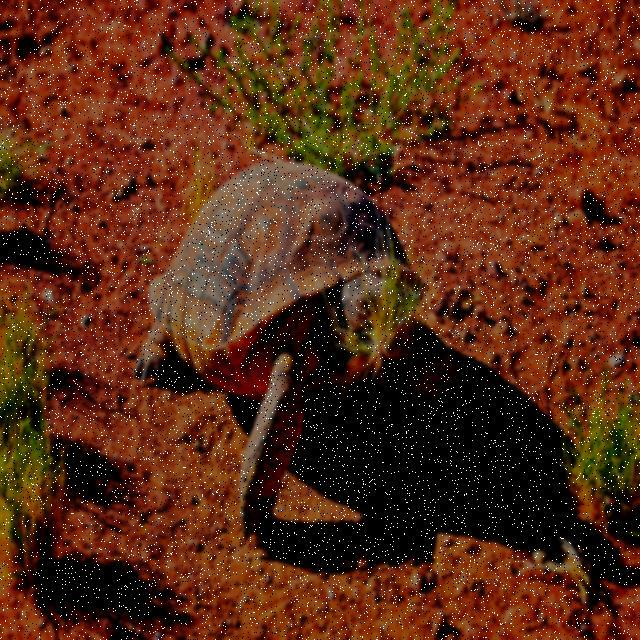tortoise: (147, 146, 441, 540)
